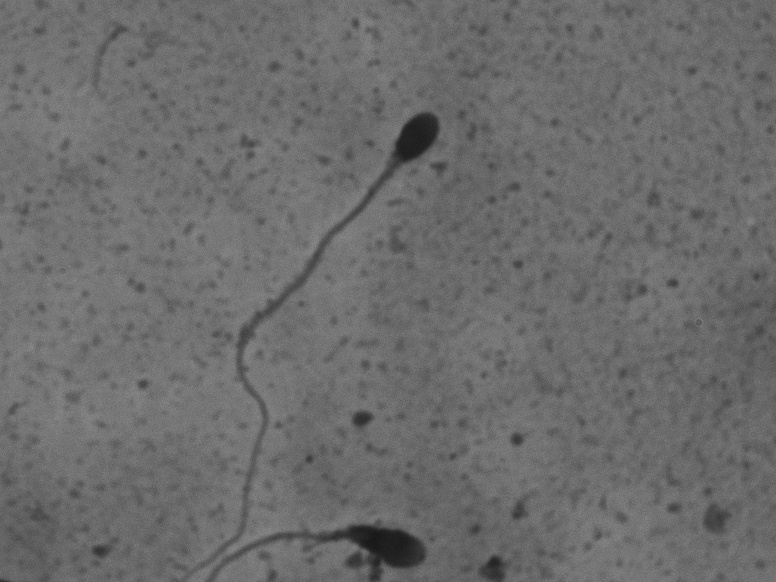Abnormal: (207, 501, 447, 578)
Normal: (176, 102, 462, 581)
